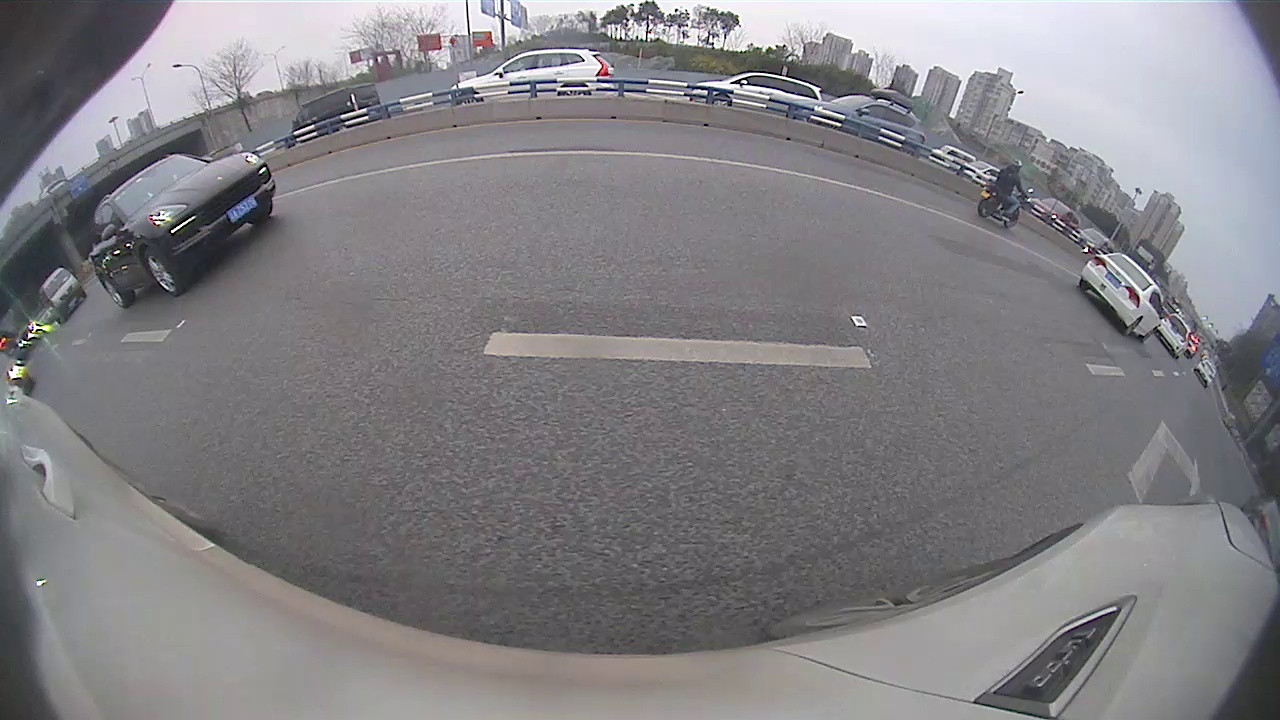car: (2, 183, 370, 495), (791, 138, 1066, 287), (604, 144, 659, 193), (523, 162, 556, 190), (578, 162, 604, 180)
front: (302, 238, 360, 311), (793, 185, 815, 224)
rear: (897, 213, 945, 274)
